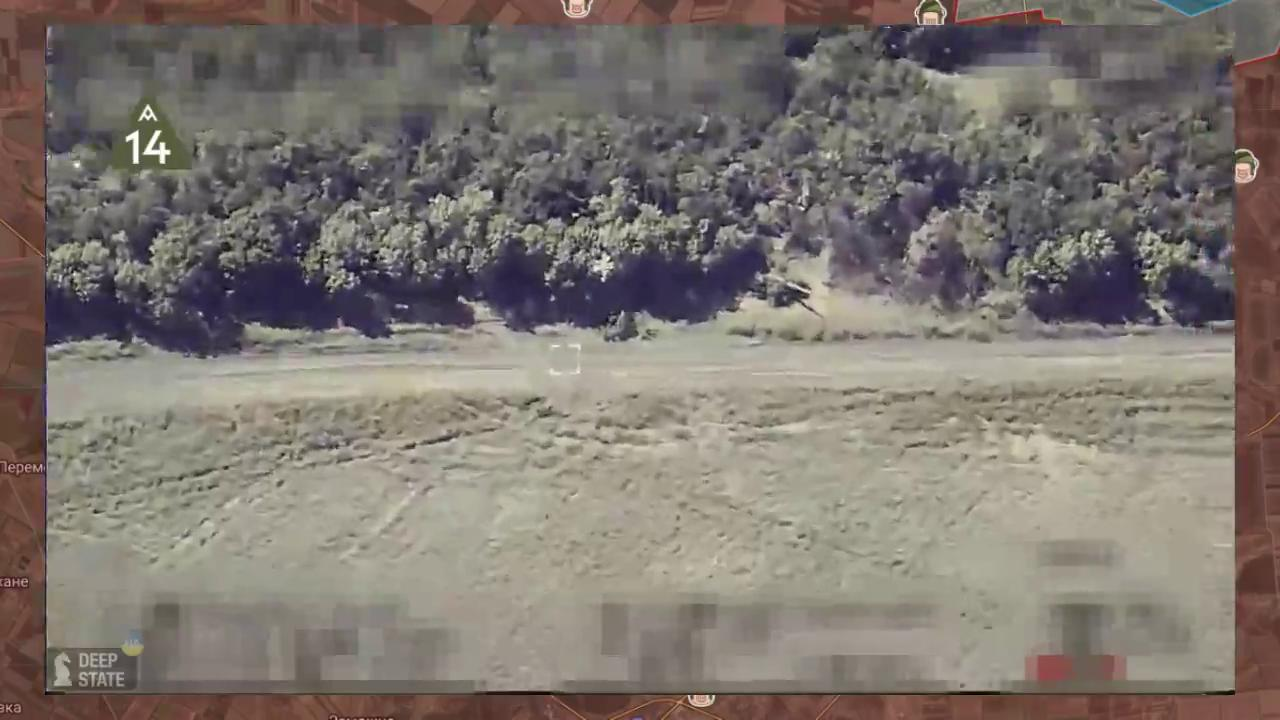tank: (744, 259, 814, 312)
